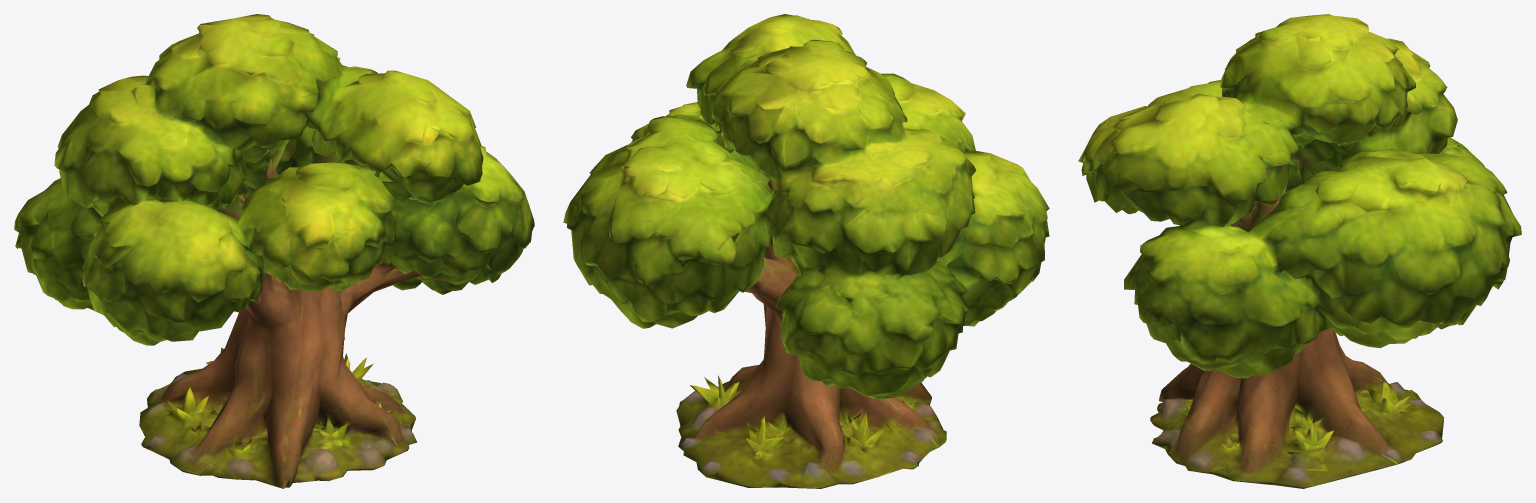
The model's file is tree-golden-canopy.glb.
The picture shows the model from 3 angles, left to right: view 1: azimuth 30°, elevation 25°; view 2: azimuth 150°, elevation 25°; view 3: azimuth 270°, elevation 25°; orthographic projection. The views are drawn at different scales.
Visible parts, largest first — view 1: Mesh1.0; view 2: Mesh1.0; view 3: Mesh1.0.
Boxes of the visible parts, left/top/right/bottom form: Mesh1.0: left=14, top=14, right=534, bottom=488; Mesh1.0: left=563, top=14, right=1049, bottom=488; Mesh1.0: left=1078, top=14, right=1521, bottom=488.
Bounding box in the file's own units: 1.89 × 1.74 × 1.76.
1 material, 1 textured.
